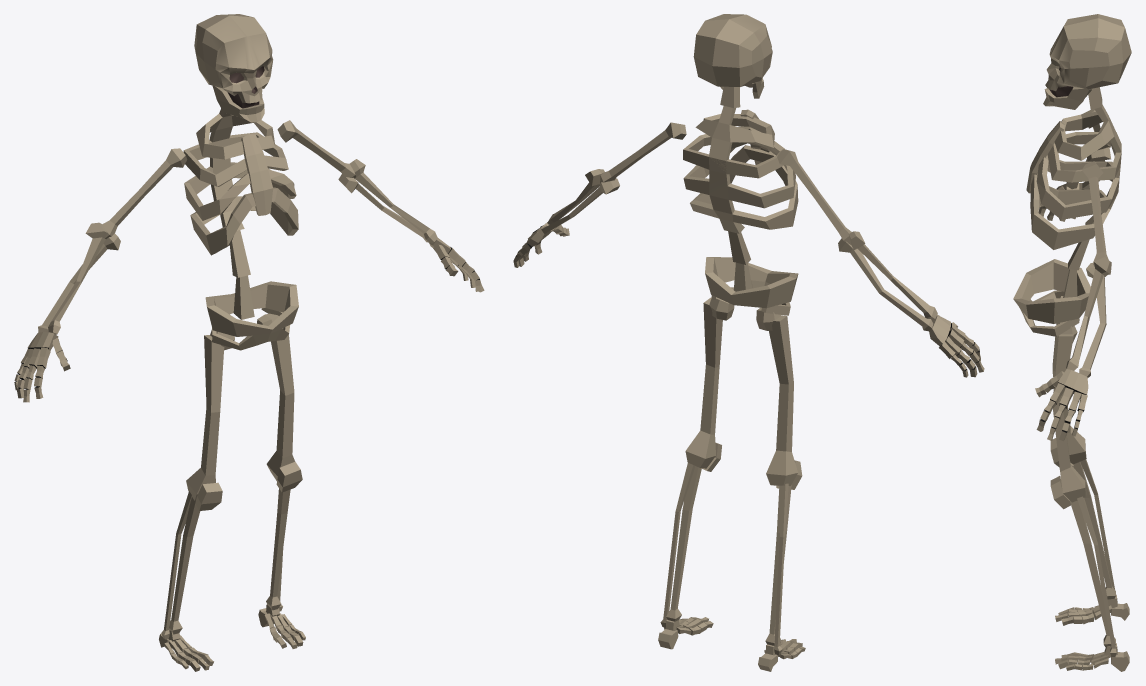
Rendered from 低模骨架2.fbx.
The picture shows the model from 3 angles, left to right: view 1: azimuth 30°, elevation 25°; view 2: azimuth 150°, elevation 25°; view 3: azimuth 270°, elevation 25°; orthographic projection.
Visible parts, largest first — view 1: torso_l, head, Pelves, thigh_r, thigh_l, calf_r, lowerarm_r, hand_r, lowerarm_l, calf_l, upperarm_r, foot_l (+3 smaller); view 2: torso_l, head, Pelves, thigh_r, thigh_l, calf_l, lowerarm_r, calf_r, hand_r, lowerarm_l, upperarm_r, upperarm_l (+3 smaller); view 3: torso_l, head, Pelves, thigh_l, hand_l, lowerarm_l, calf_l, calf_r, foot_l, upperarm_l, foot_r, thigh_r (+2 smaller).
Part boxes in pixels (x1,y1,x2,y2): torso_l: (183, 108, 298, 255); head: (194, 14, 273, 122); Pelves: (205, 230, 298, 350); thigh_r: (186, 329, 234, 510); thigh_l: (257, 313, 302, 492); calf_r: (161, 491, 200, 639); lowerarm_r: (38, 222, 120, 334); hand_r: (14, 332, 70, 402); lowerarm_l: (338, 159, 437, 243); calf_l: (266, 488, 290, 610); upperarm_r: (102, 148, 187, 238); foot_l: (258, 604, 305, 648); torso_l: (683, 106, 798, 233); head: (693, 14, 772, 107); Pelves: (705, 231, 798, 315); thigh_r: (756, 307, 802, 489); thigh_l: (685, 297, 734, 471); calf_l: (663, 462, 701, 621); lowerarm_r: (838, 231, 937, 331); calf_r: (765, 483, 791, 655); hand_r: (929, 315, 984, 377); lowerarm_l: (537, 169, 619, 237); upperarm_r: (777, 149, 851, 244); upperarm_l: (599, 122, 686, 184); torso_l: (1026, 104, 1121, 249); head: (1043, 14, 1131, 109); Pelves: (1013, 239, 1090, 336); thigh_l: (1050, 322, 1086, 509); hand_l: (1035, 369, 1088, 441); lowerarm_l: (1066, 257, 1111, 377); calf_l: (1069, 496, 1115, 648); calf_r: (1073, 459, 1116, 599); foot_l: (1055, 643, 1129, 671); upperarm_l: (1082, 161, 1108, 266); foot_r: (1055, 595, 1129, 625); thigh_r: (1050, 296, 1086, 467).
Bounding box in the file's own units: 131 × 171 × 29.35.
